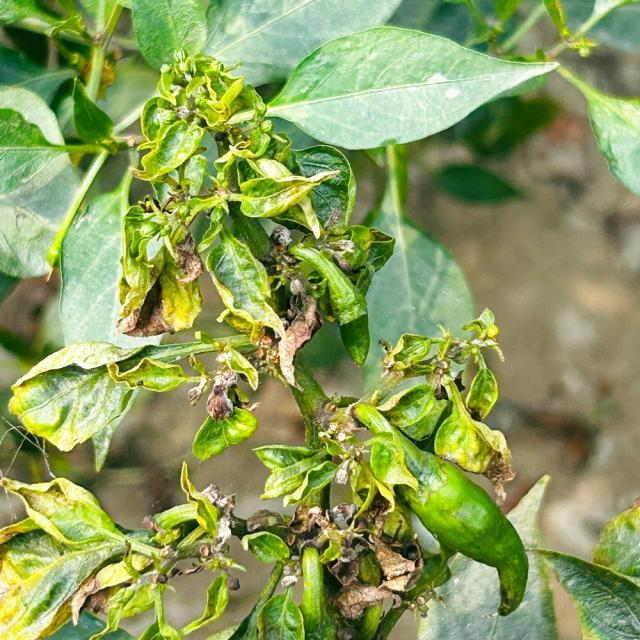Chilli_Leaf_Curl: (1, 3, 563, 638), (116, 49, 344, 341), (349, 401, 530, 617), (256, 24, 561, 151), (7, 331, 261, 468)
